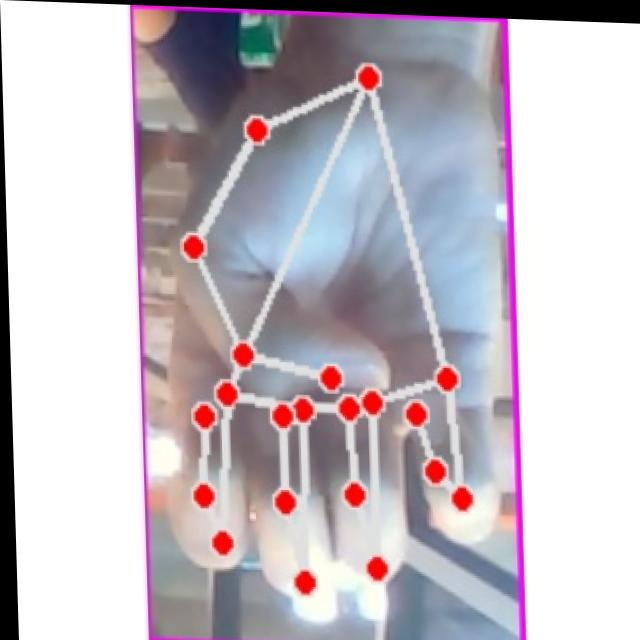E: (164, 45, 499, 631)
